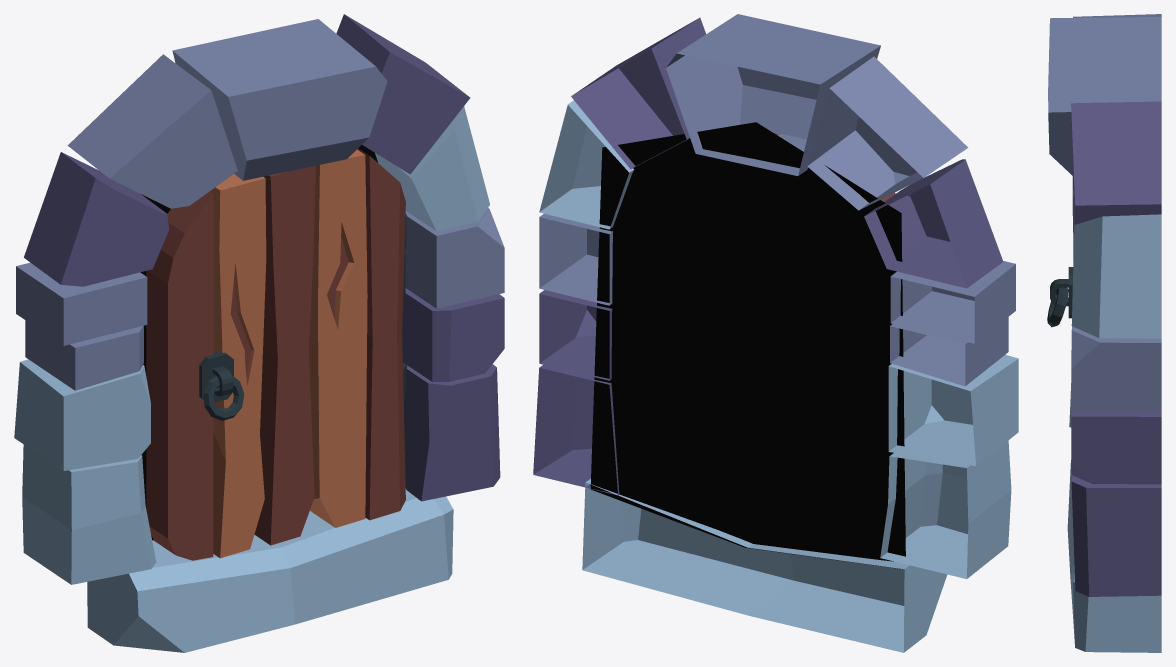
Rendered from Wall_Tower_Door_2.fbx.
3 renders of one model, left to right at view 1: azimuth 30°, elevation 25°; view 2: azimuth 150°, elevation 25°; view 3: azimuth 270°, elevation 25°, orthographic. The views are drawn at different scales.
Parts seen in each view (by area): view 1: Wall_Tower_02_Doors_01.002; view 2: Wall_Tower_02_Doors_01.002; view 3: Wall_Tower_02_Doors_01.002.
Boxes of the visible parts, bbox=[...] form: Wall_Tower_02_Doors_01.002: bbox=[14, 14, 504, 652]; Wall_Tower_02_Doors_01.002: bbox=[533, 14, 1018, 652]; Wall_Tower_02_Doors_01.002: bbox=[1047, 14, 1161, 652].
Bounding box in the file's own units: 346 × 409 × 80.21.
